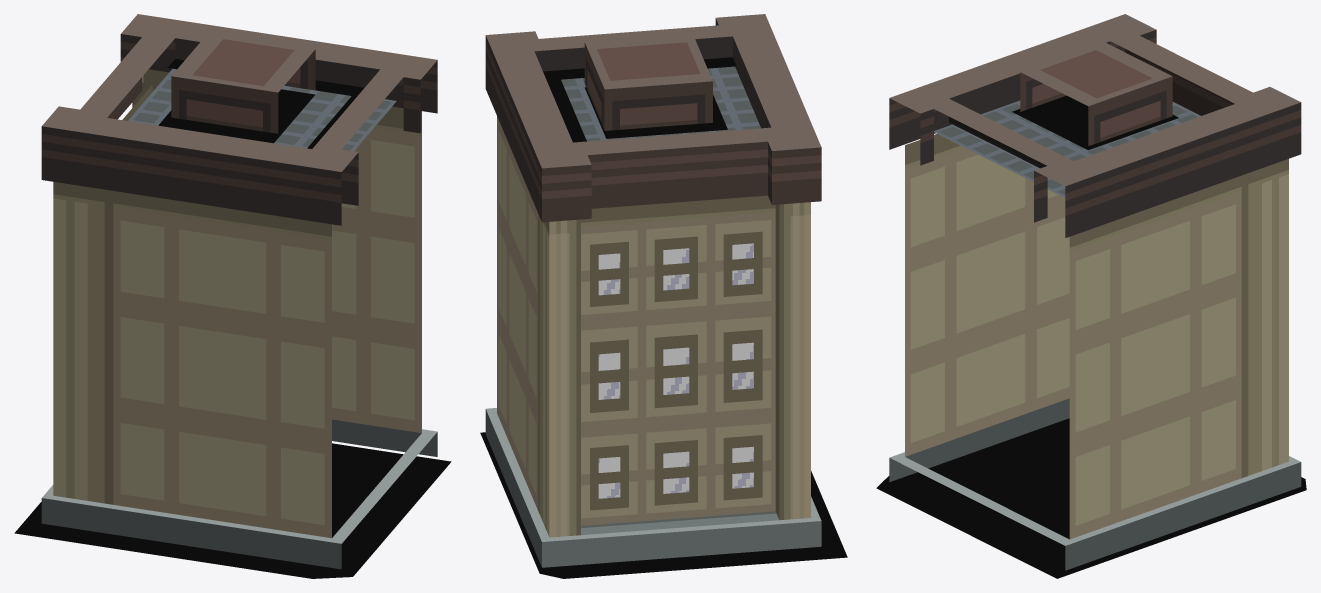
Rendered from jubilife_city_building_5_lev3.glb.
3 views of the same model, side by side, from view 1: azimuth 30°, elevation 25°; view 2: azimuth 150°, elevation 25°; view 3: azimuth 270°, elevation 25° (orthographic). The views are drawn at different scales.
Visible parts, largest first — view 1: jubilife_city_building_5_lev3; view 2: jubilife_city_building_5_lev3; view 3: jubilife_city_building_5_lev3.
Part boxes in pixels (<box>): jubilife_city_building_5_lev3: <box>14,14,451,578</box>; jubilife_city_building_5_lev3: <box>480,14,847,578</box>; jubilife_city_building_5_lev3: <box>876,14,1306,578</box>.
Size of the model in its own units: 36.1 by 36.93 by 34.63.
3 materials, 3 textured.
